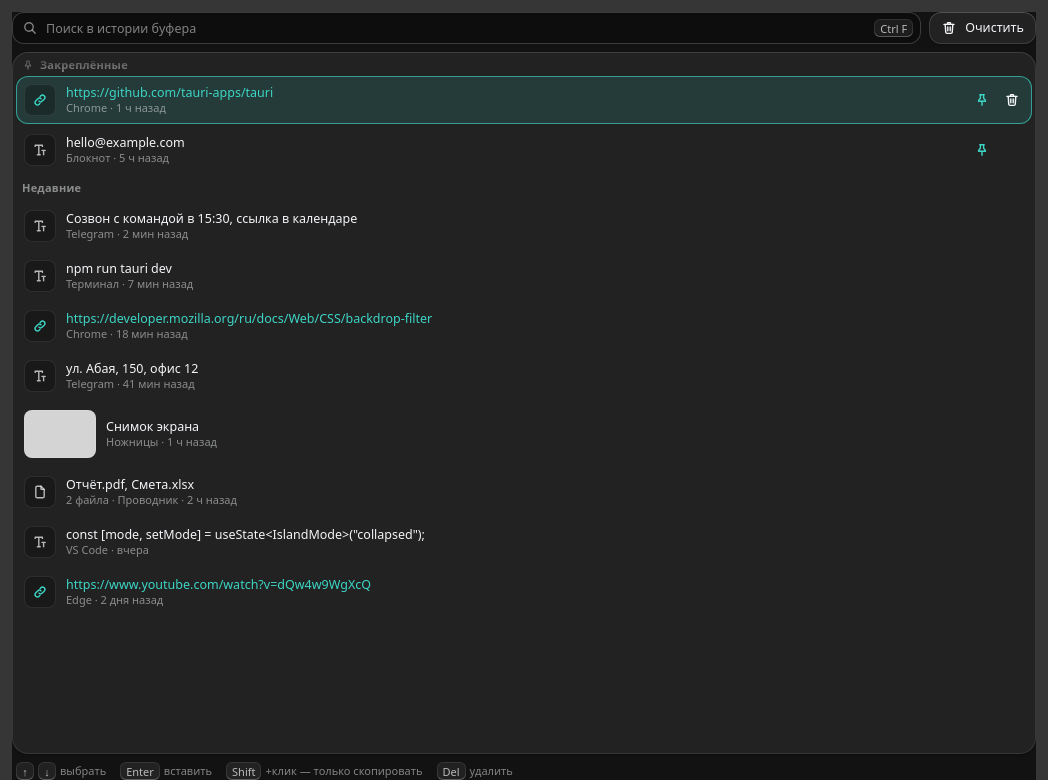
Test case: Clipboard tab: pin / delete / clear › Escape disarms the confirmation
Expected: the text "npm run tauri dev" is shown, top-left (66, 260), bottom-right (172, 277)
Step 1. Click the button "Очистить" → (983, 28), box top-left (929, 12), bottom-right (1036, 44)
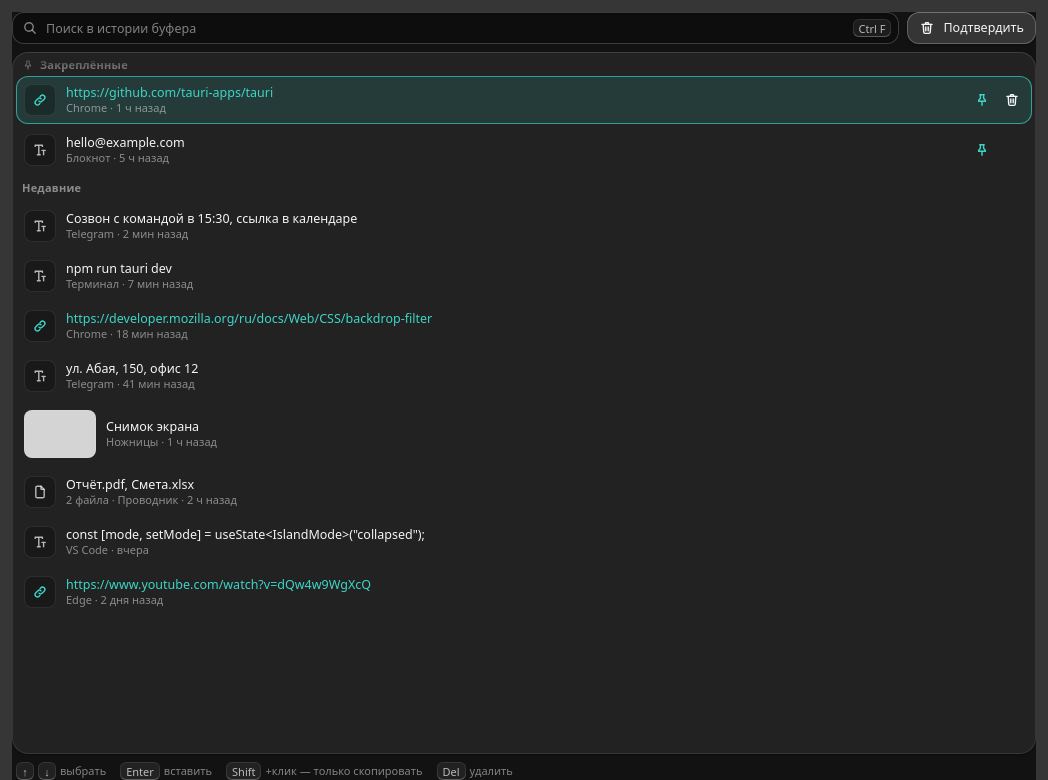
Step 2. Press Escape in the field named "Поиск в истории буфера", box top-left (12, 12), bottom-right (900, 44)
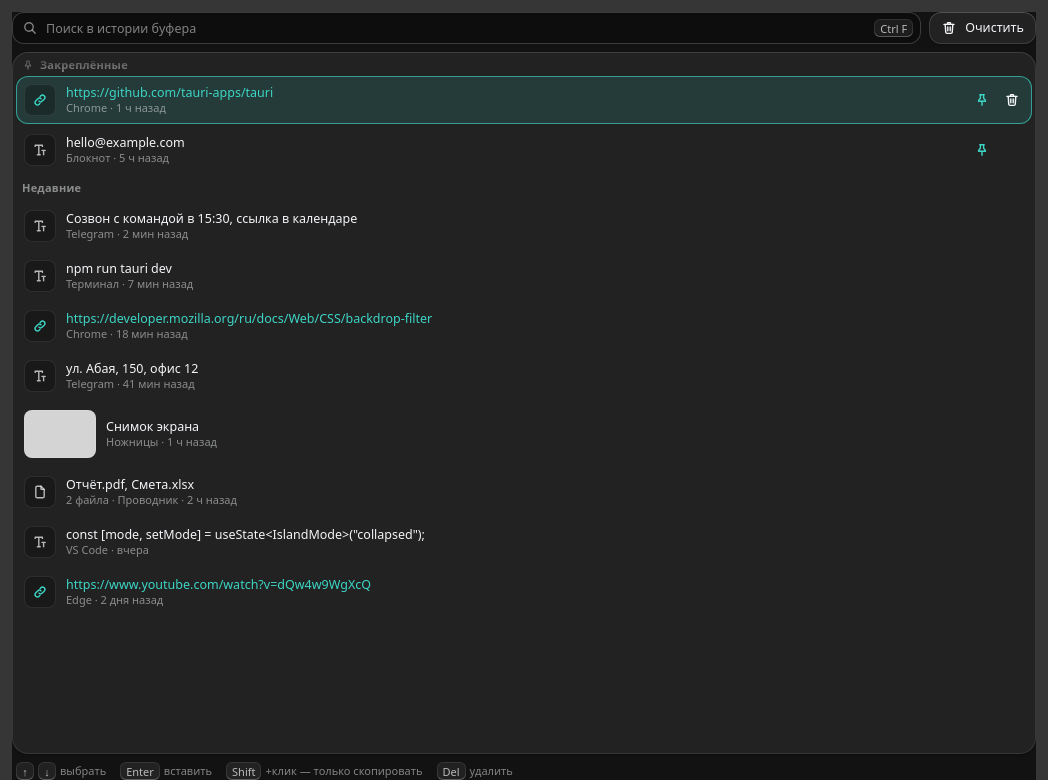
Result: the button "Очистить" is shown at top-left (929, 12), bottom-right (1036, 44)
